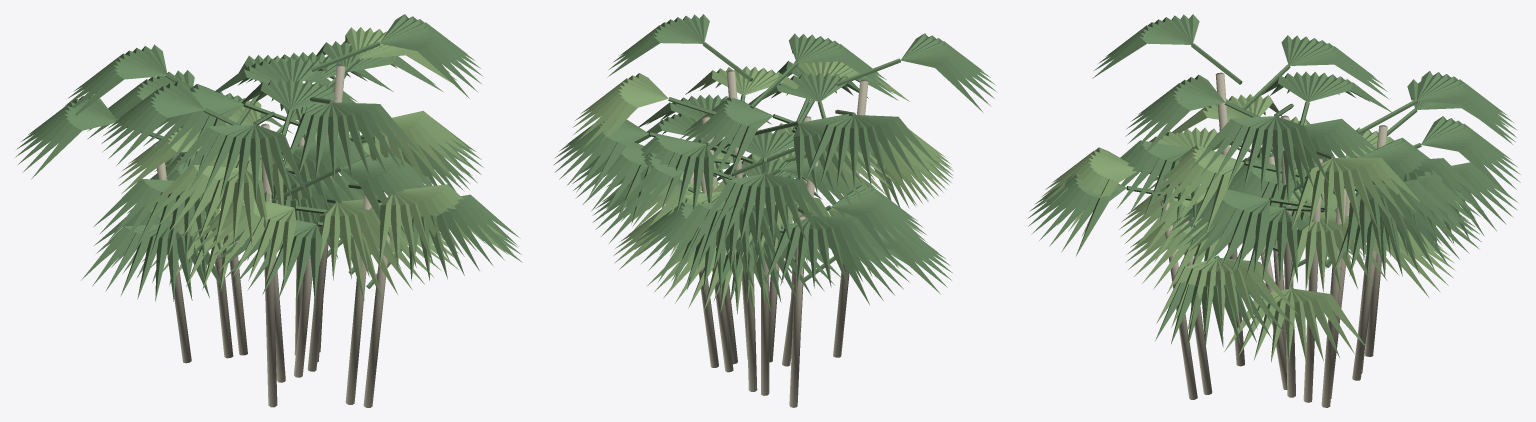
The model's file is grove-specimen-18.glb.
3 renders of one model, left to right at view 1: azimuth 30°, elevation 25°; view 2: azimuth 150°, elevation 25°; view 3: azimuth 270°, elevation 25°, orthographic. The views are drawn at different scales.
Parts seen in each view (by area): view 1: grove-specimen-18; view 2: grove-specimen-18; view 3: grove-specimen-18.
Part boxes in pixels (x1,y1,x2,y2): grove-specimen-18: (15, 14, 522, 407); grove-specimen-18: (553, 14, 997, 407); grove-specimen-18: (1027, 14, 1520, 407).
Bounding box in the file's own units: 2.19 × 1.8 × 2.55.
